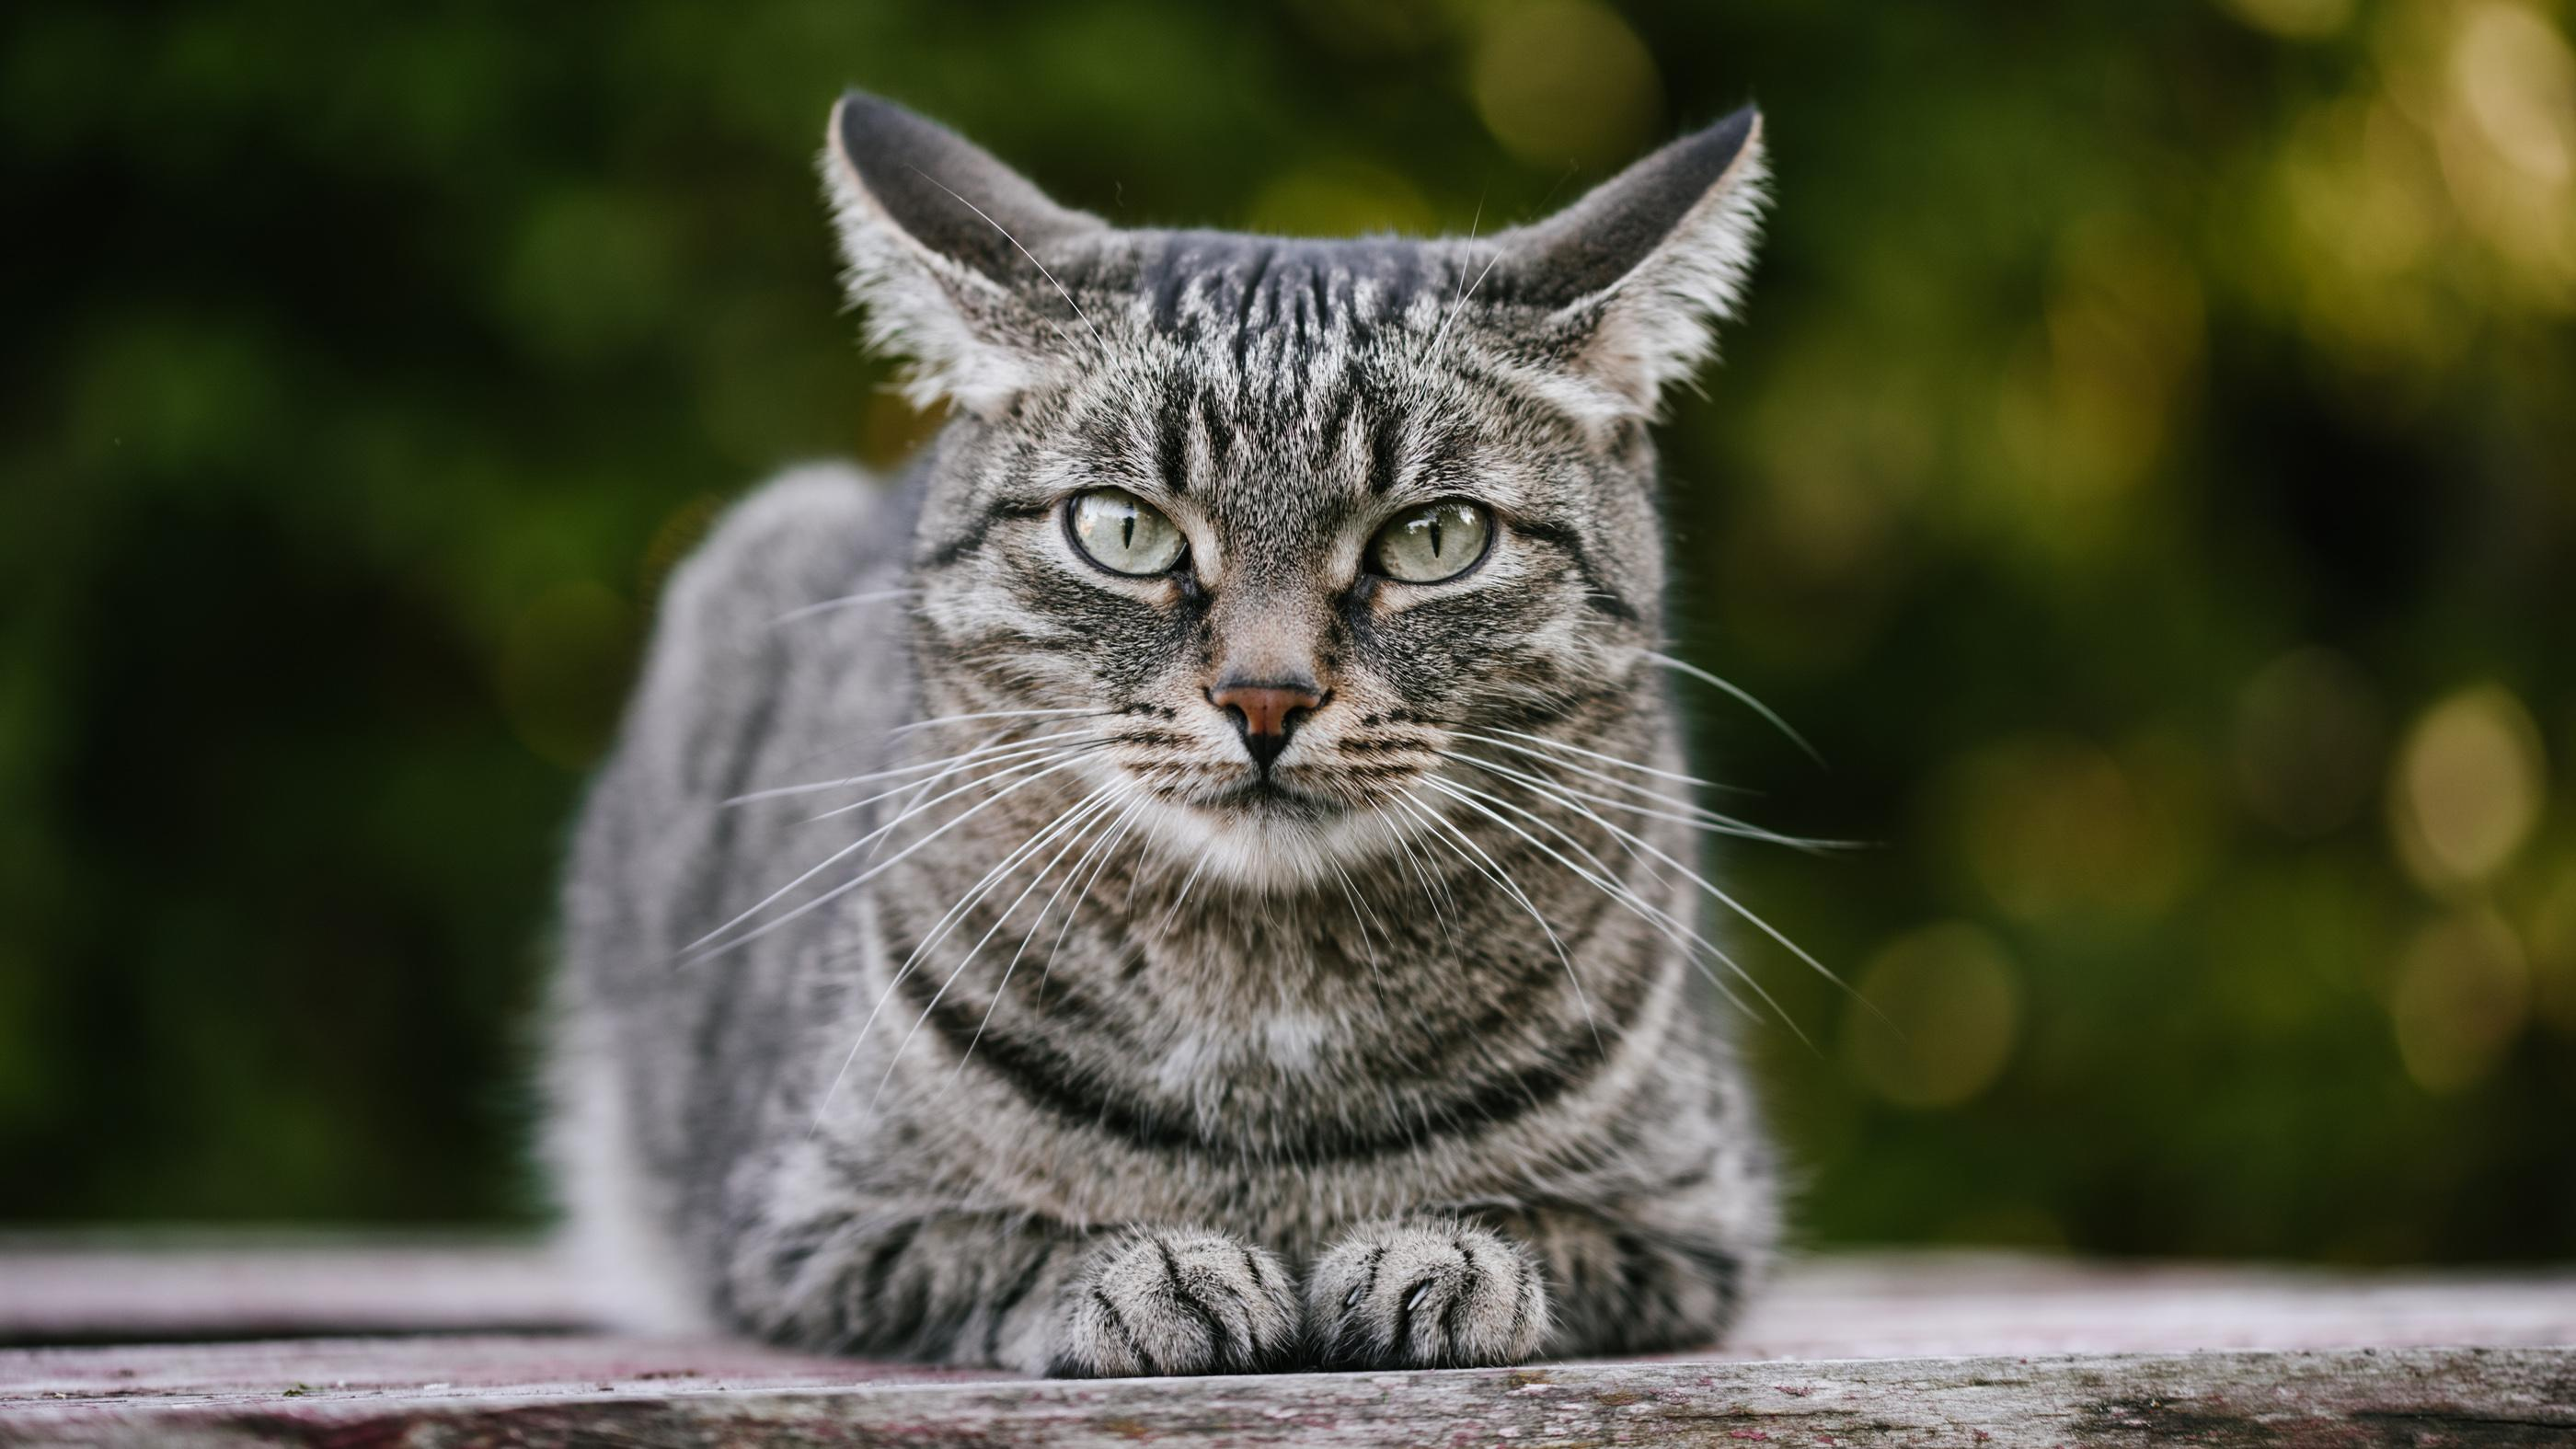Cat: (817, 65, 1787, 826)
